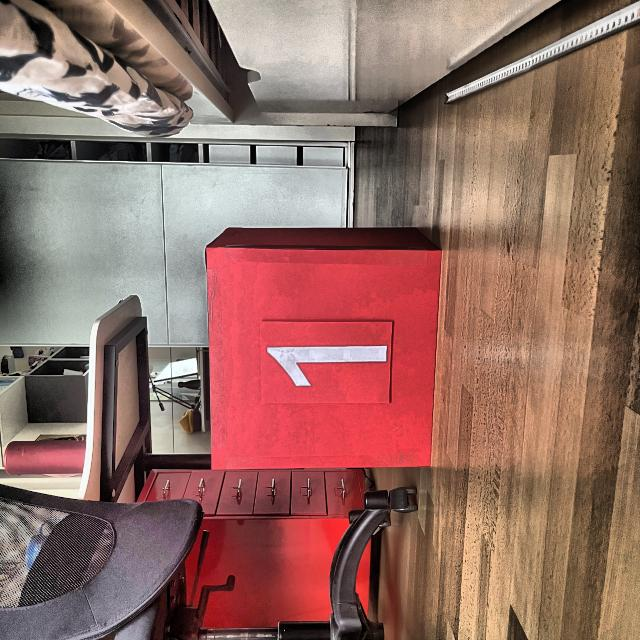one: (264, 339, 392, 393)
red box: (203, 224, 434, 471)
